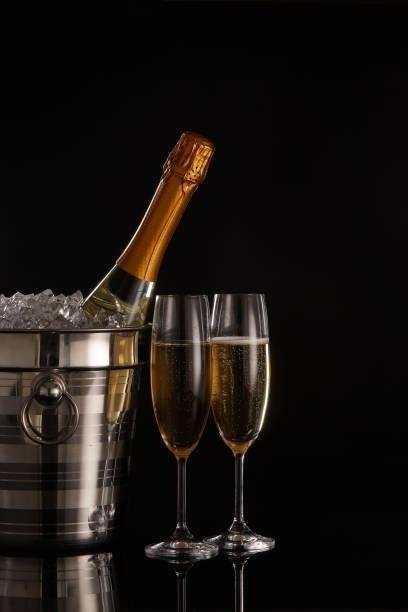glass-wine: (202, 290, 278, 553), (142, 292, 216, 561)
